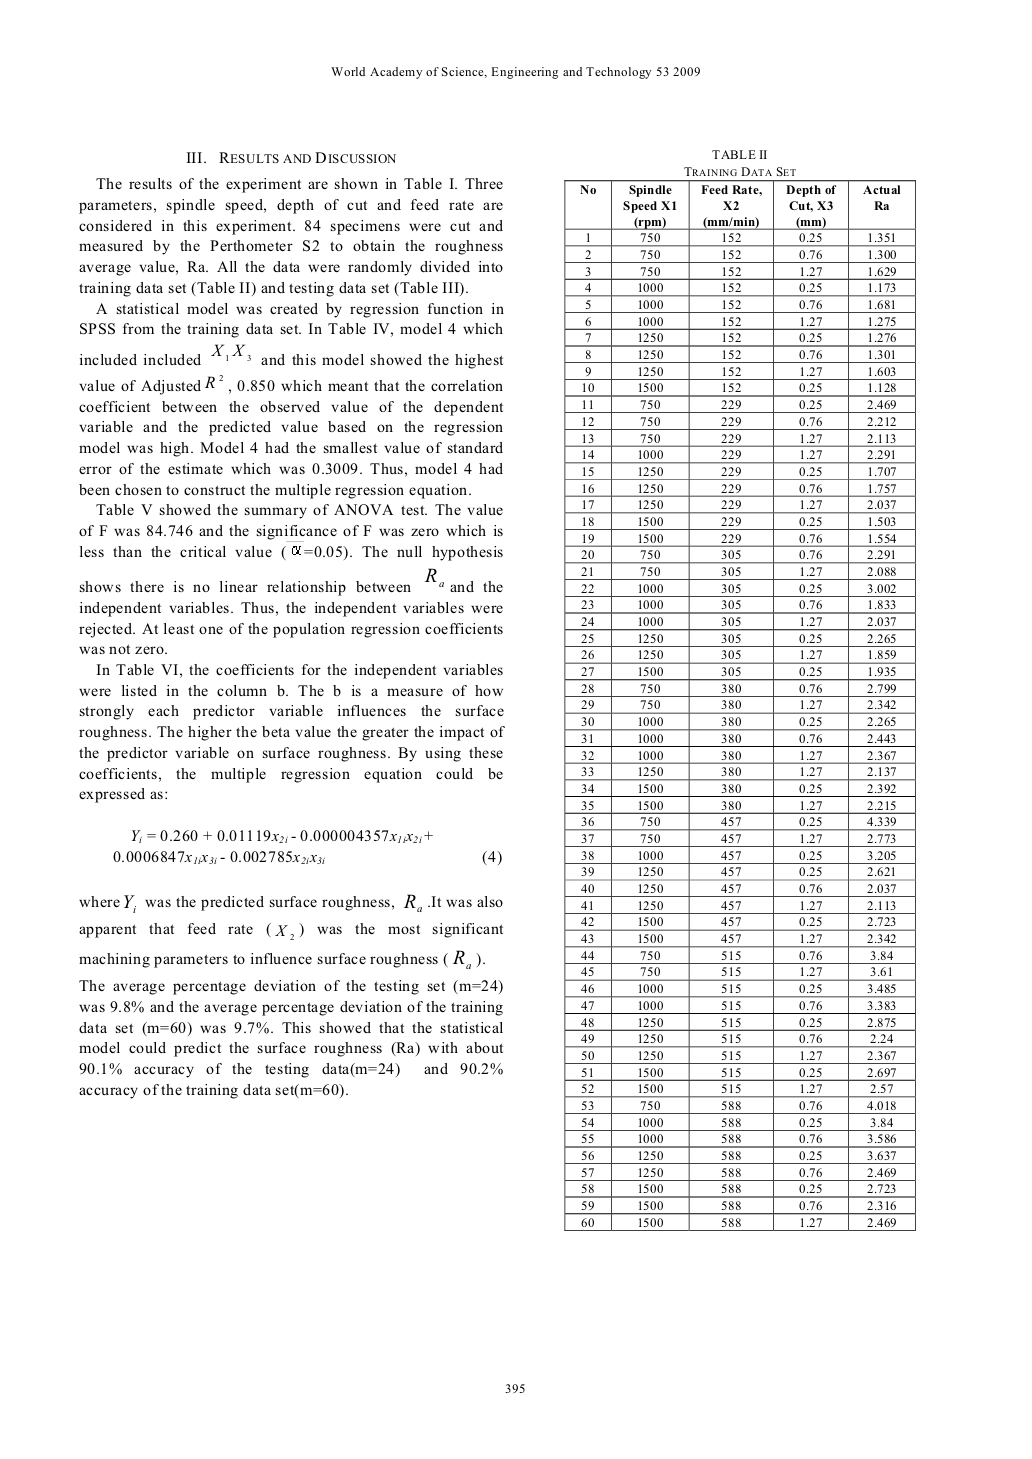Table: (564, 179, 915, 1231)
formula: (113, 850, 501, 866), (131, 828, 432, 843)
